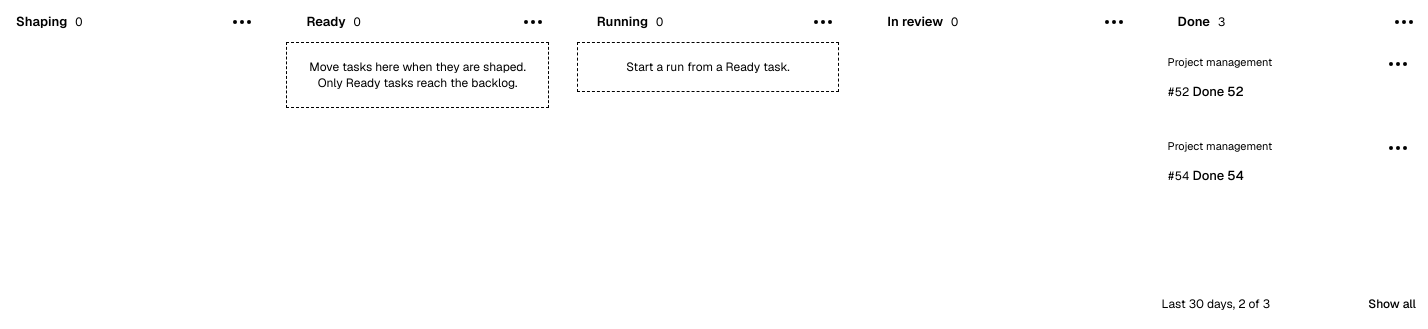
Test: the Done column shows the last 30 days and Show all reveals the rest
Expected: the text "3" is shown, [1218, 14, 1225, 30]
Expected: the text "Last 30 days, 2 of 3" is shown, [1162, 296, 1270, 312]
Step 1. Click the button "Show all" → (1392, 304), box [1368, 296, 1416, 312]
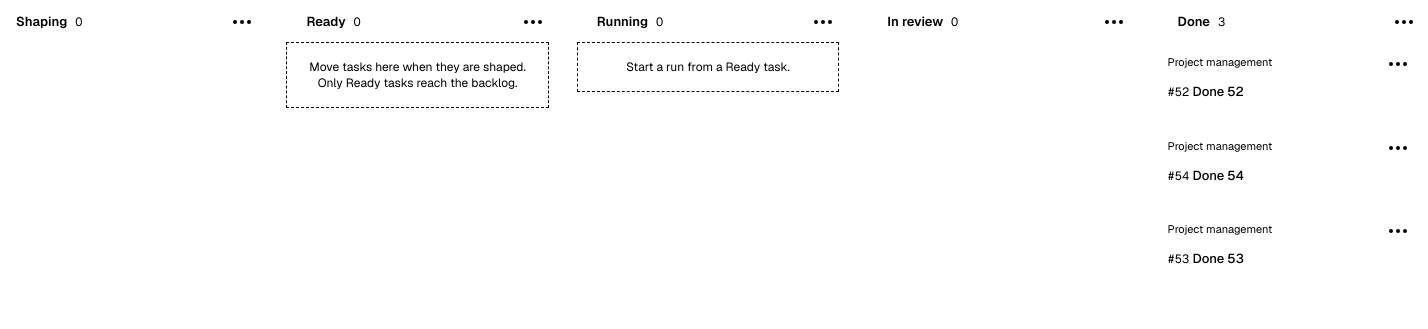
Expected: the text "Move tasks here when they are shaped. Only Ready tasks reach the backlog." is shown, [286, 42, 549, 108]
Now the number of list items is 3, box [1158, 42, 1420, 118]; [1158, 126, 1420, 201]; [1158, 209, 1420, 284]
Now the text "Last 30 days" is gone
